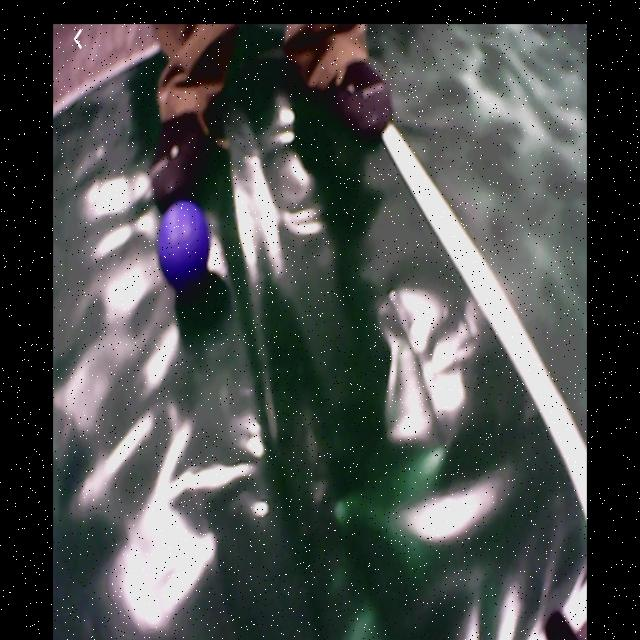ball: (158, 207, 210, 285)
